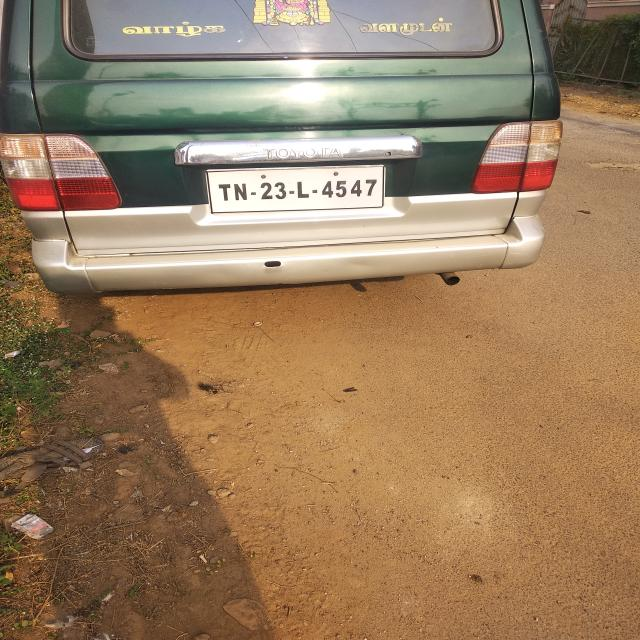number_plate: (201, 162, 389, 215)
